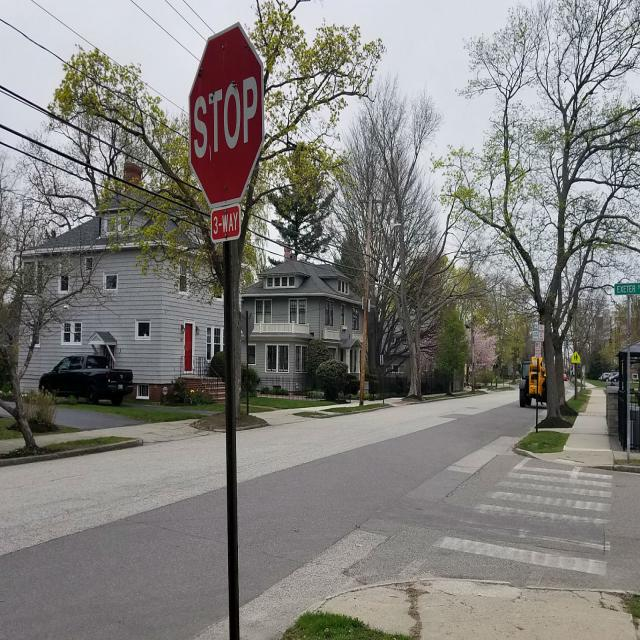stop-sign: (166, 32, 275, 176)
